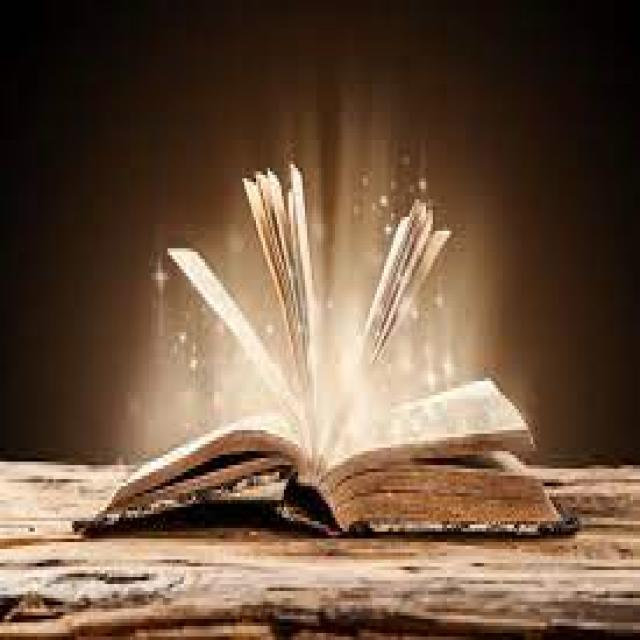book: (79, 131, 601, 572)
